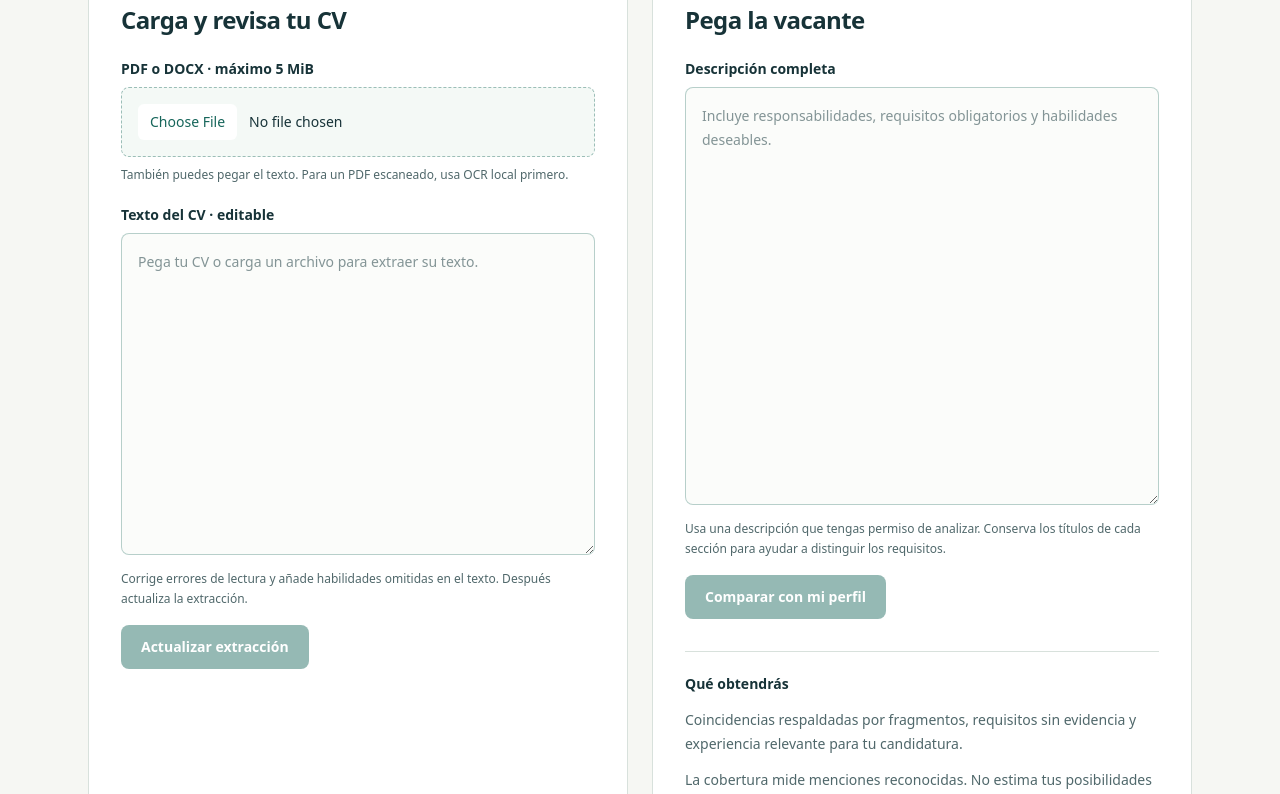
Test case: CV review and matching flow › aborts requests and ignores late responses after clearing the session
(page scrolled)
Type "private-cv-marker" into the text box labelled "Texto del CV · editable".
click(358, 394); type("private-cv-marker")  # box [121,233,595,555]
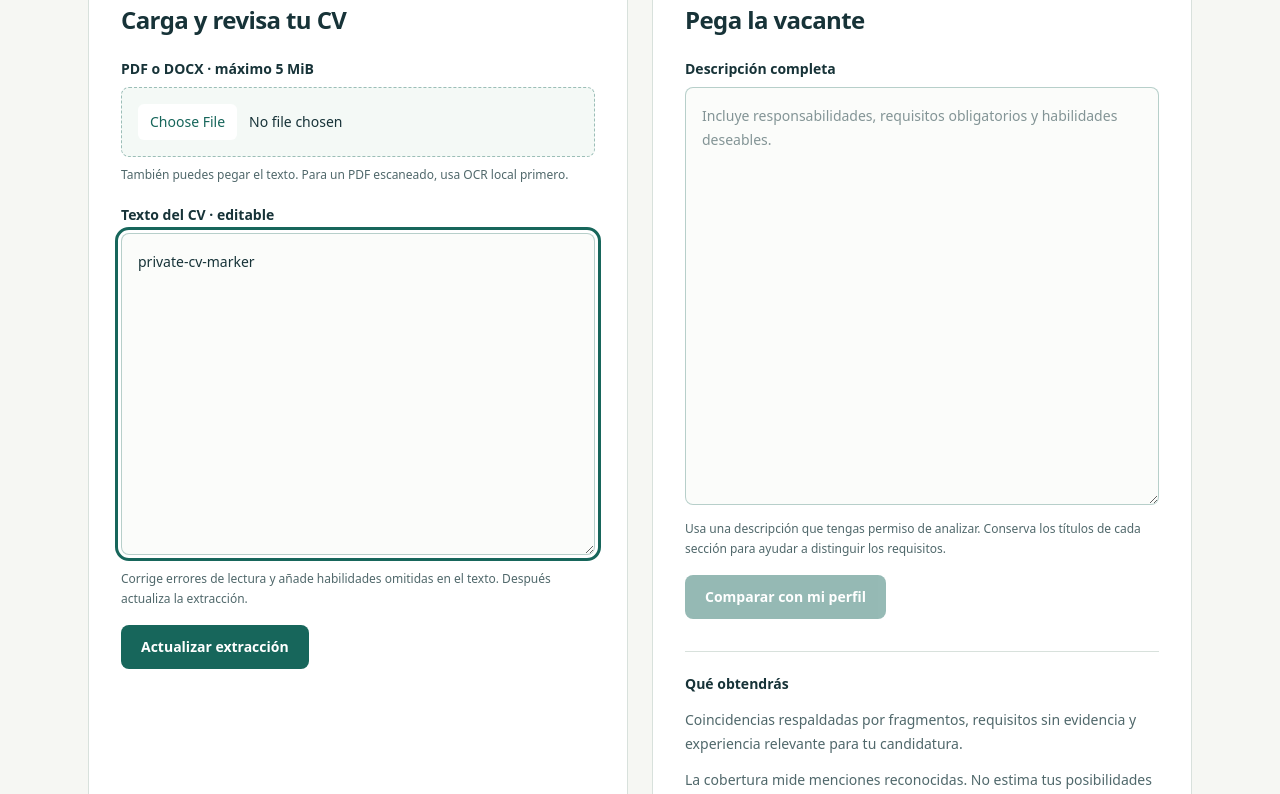
Click the button "Actualizar extracción".
click(215, 647)  # box [121,625,309,669]
(page scrolled)
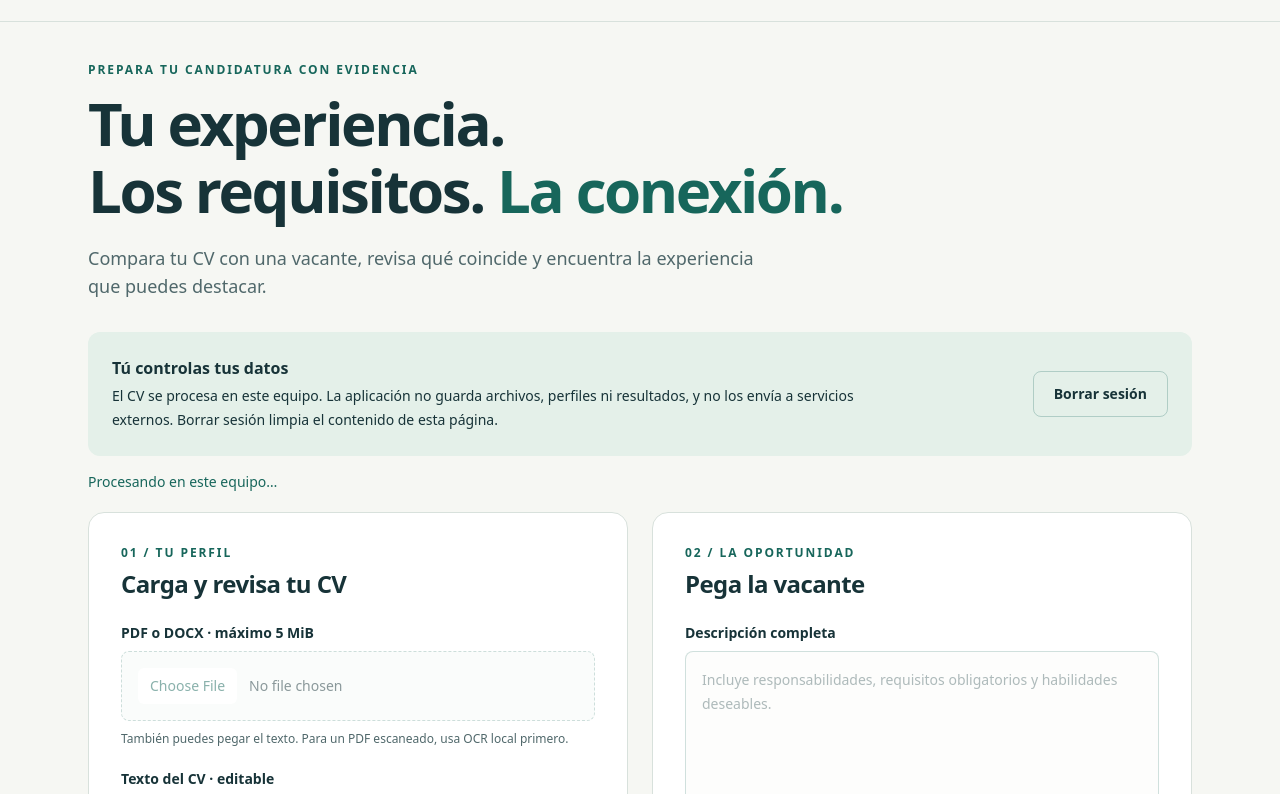
Click the button "Borrar sesión".
click(1100, 394)  # box [1033,371,1168,417]
(page scrolled)
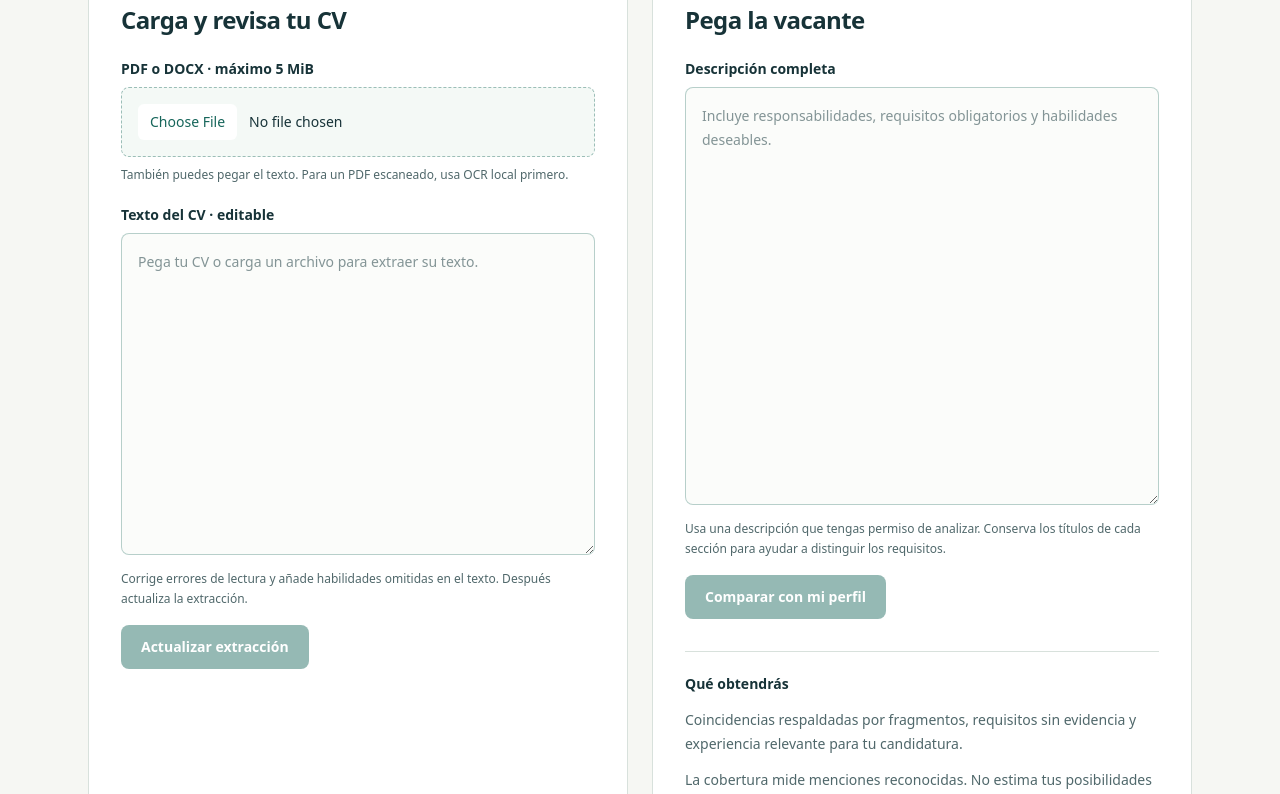
Check: the text box labelled "Texto del CV · editable" is empty, box [121,233,595,555]
